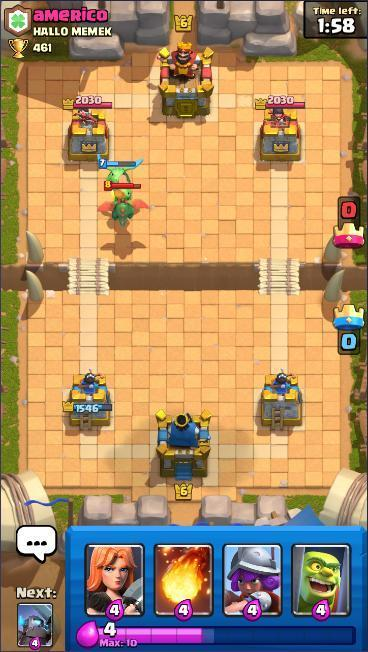ally_baby_dragon: (95, 151, 145, 195)
enemy_baby_dragon: (95, 179, 146, 229)
